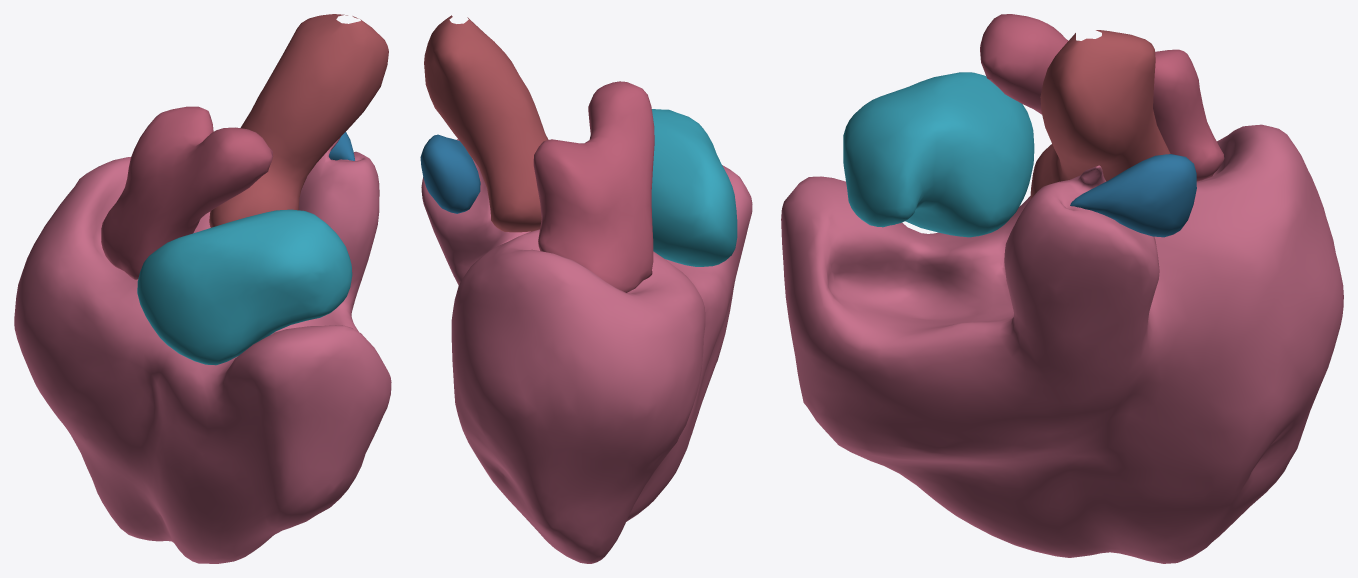
Rendered from frame_48.glb.
The picture shows the model from 3 angles, left to right: view 1: azimuth 30°, elevation 25°; view 2: azimuth 150°, elevation 25°; view 3: azimuth 270°, elevation 25°; orthographic projection. The views are drawn at different scales.
Visible parts, largest first — view 1: Renderer Node; view 2: Renderer Node; view 3: Renderer Node.
Boxes of the visible parts, x1=… form: Renderer Node: x1=14, y1=14, x2=391, y2=563; Renderer Node: x1=420, y1=15, x2=752, y2=563; Renderer Node: x1=781, y1=14, x2=1343, y2=563.
Size of the model in its own units: 102 by 158 by 129.
